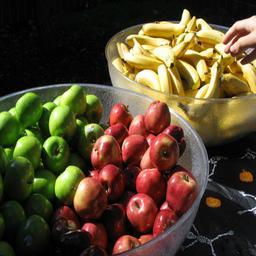apple: (164, 170, 198, 215), (125, 192, 157, 233), (75, 178, 107, 219), (5, 155, 34, 196), (150, 133, 180, 169), (91, 134, 121, 170), (49, 104, 78, 138), (42, 136, 71, 170), (13, 136, 42, 170), (14, 92, 43, 126), (55, 164, 83, 197), (136, 168, 163, 201), (146, 100, 171, 135), (59, 84, 87, 115), (79, 221, 107, 251), (122, 133, 148, 165), (98, 164, 123, 194), (112, 234, 142, 256), (79, 123, 104, 149), (109, 101, 132, 127)
